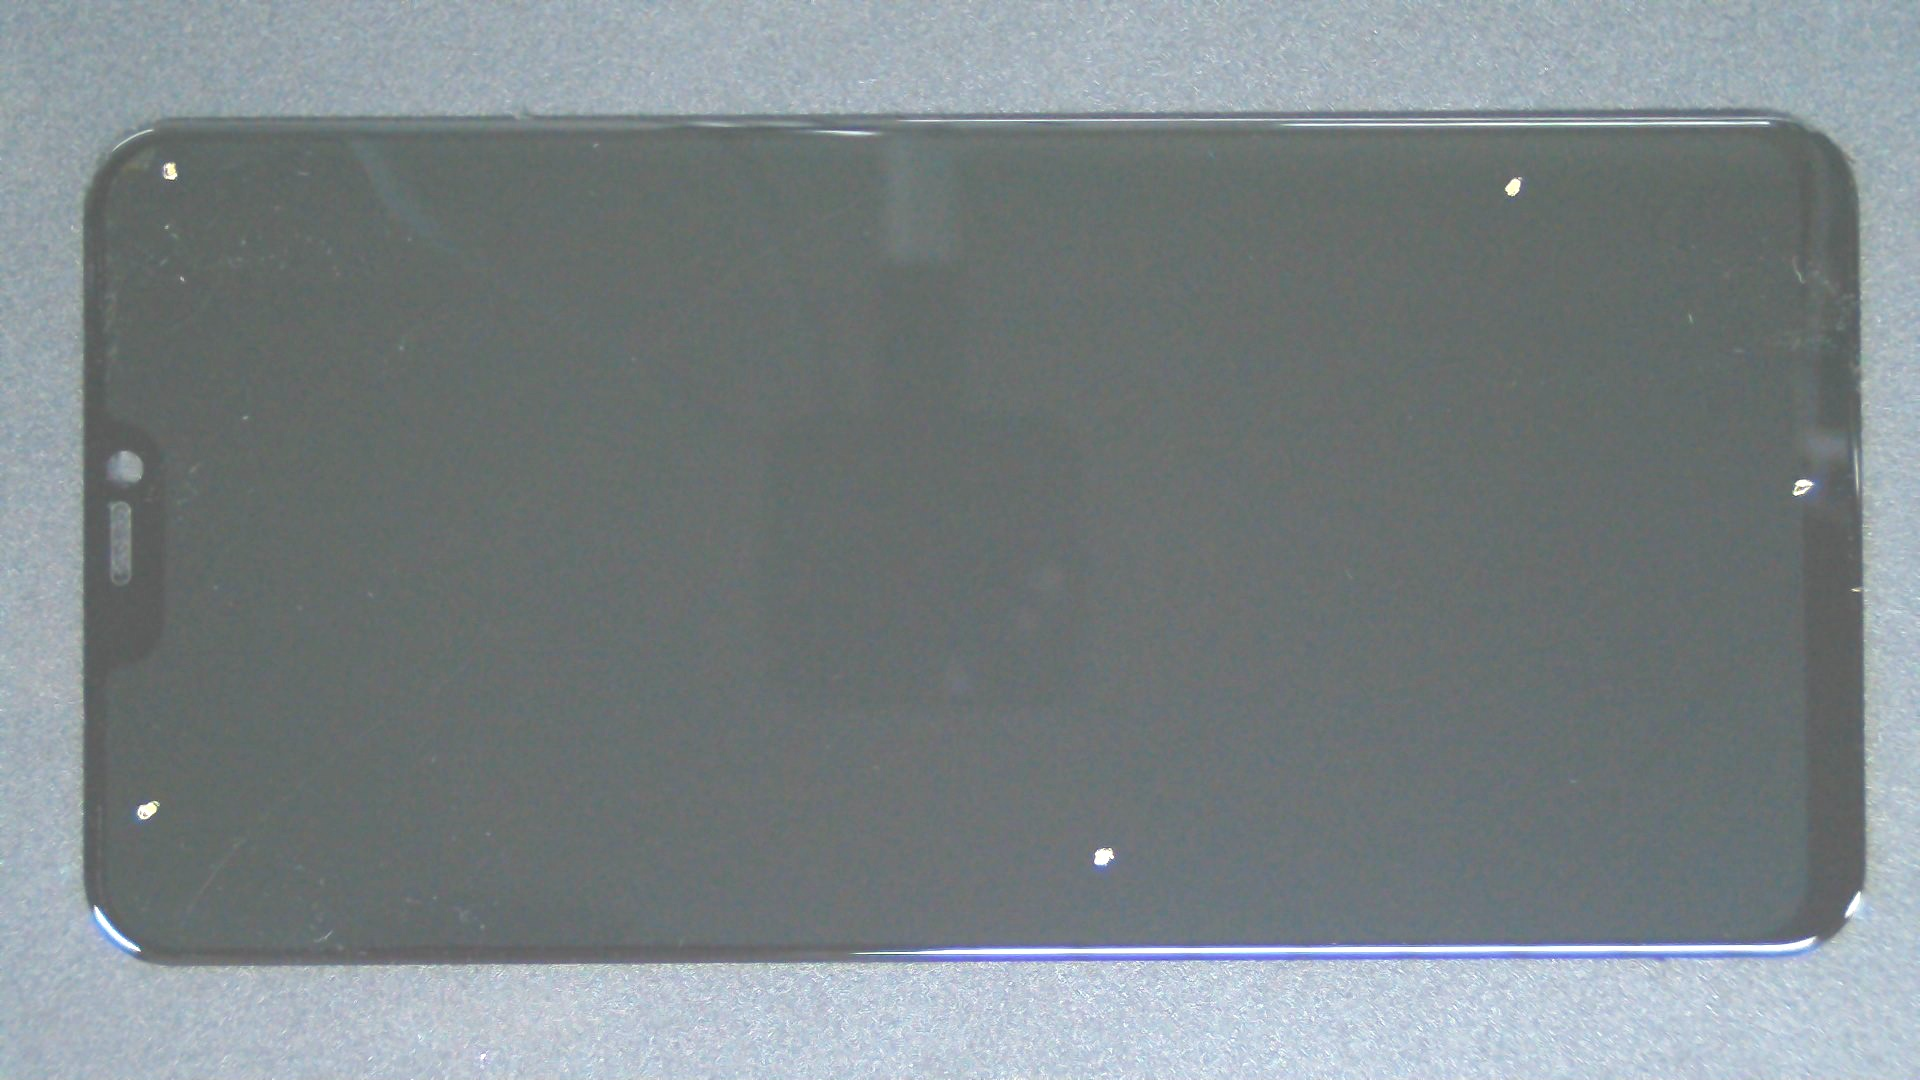oil: (553, 422, 1658, 1080), (903, 237, 1920, 713), (761, 87, 1920, 262), (76, 400, 229, 1080), (83, 80, 247, 243)
